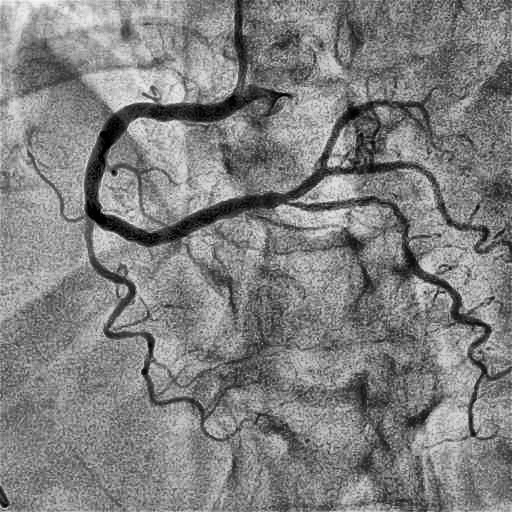pborca: (285, 99, 496, 255)
pda: (286, 196, 491, 436)
rca: (84, 94, 286, 246)
